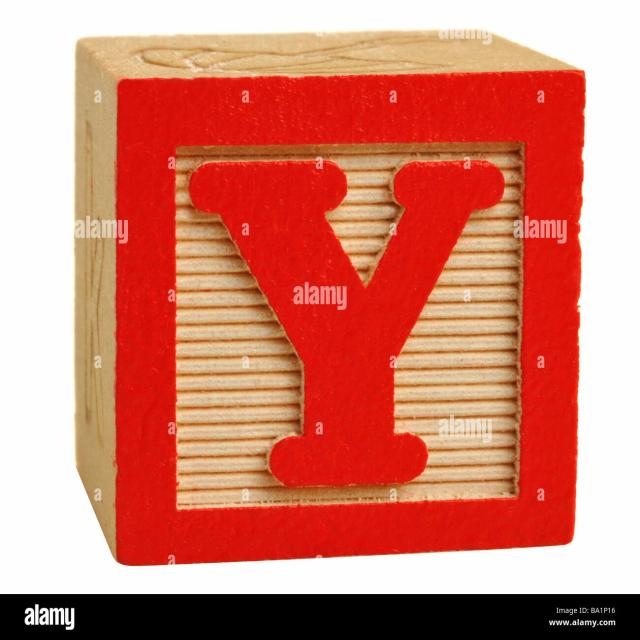Y: (178, 158, 519, 499)
